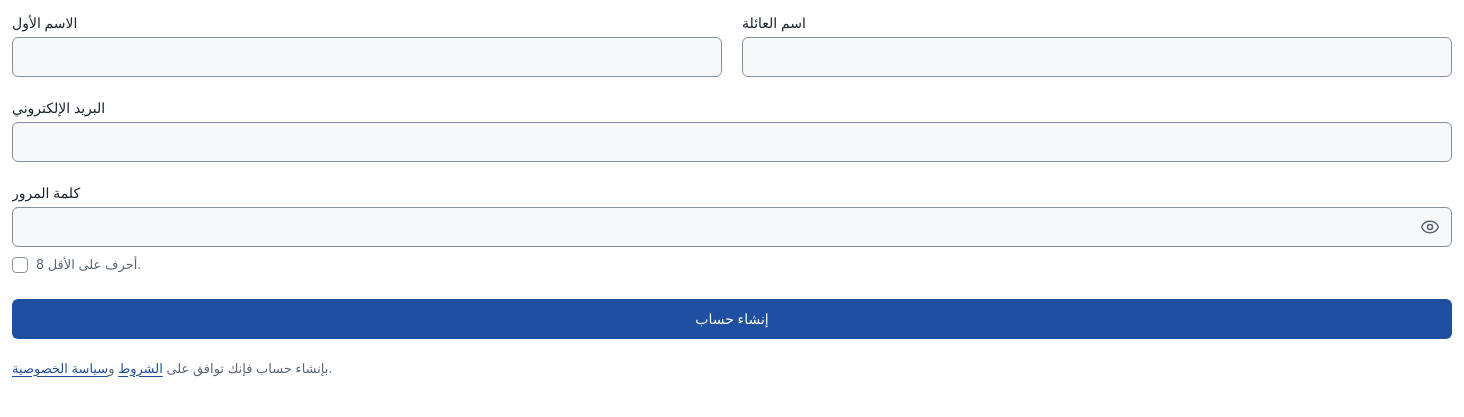
Test: signup form › asks for at least 8 characters, in the page language
Type "أمل" into the field labelled "الاسم الأول" at (367, 57), box [12,37,722,77]
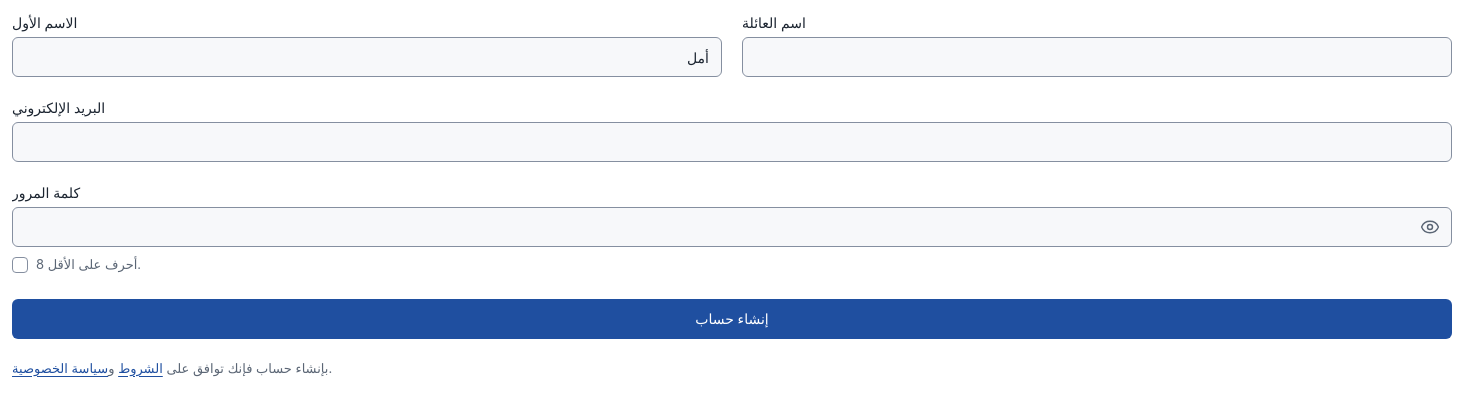
Type "بن صالح" into the field labelled "اسم العائلة" at (1097, 57), box [742,37,1452,77]
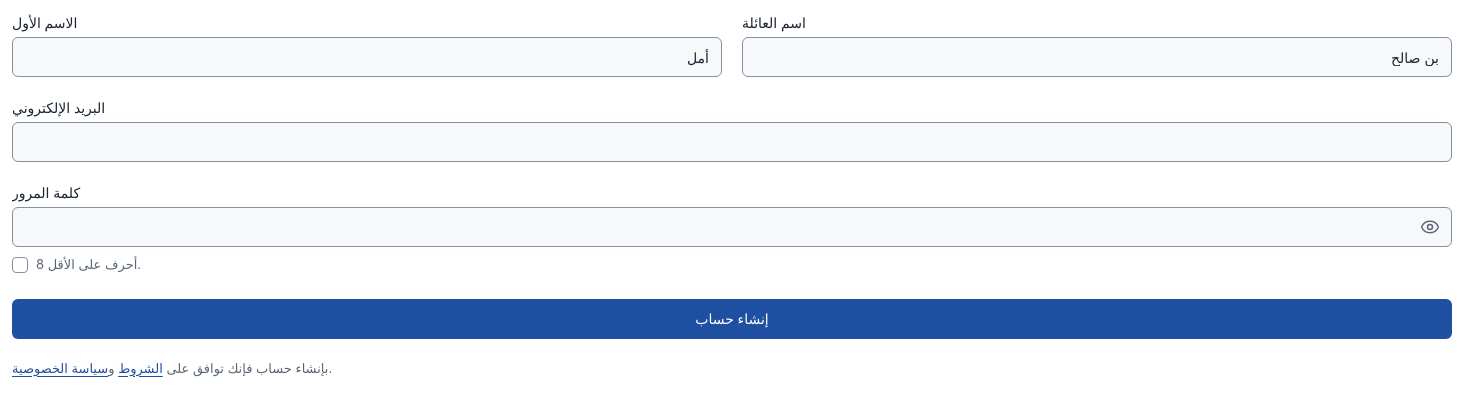
Type "a@b.co" into the field labelled "البريد الإلكتروني" at (732, 142), box [12,122,1452,162]
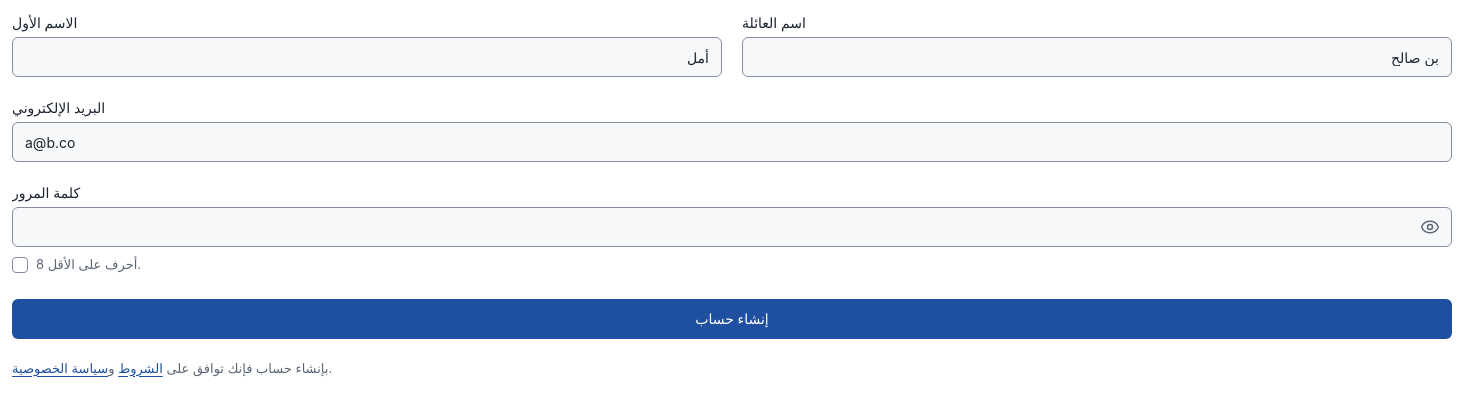
Type "1234" into the password field labelled "كلمة المرور" at (732, 227), box [12,207,1452,247]
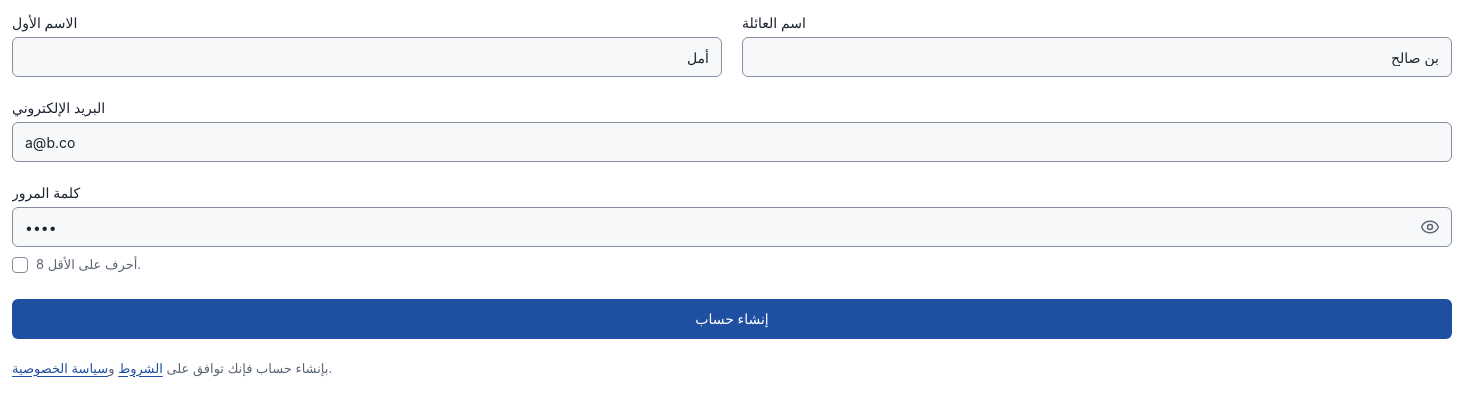
Click the button "إنشاء حساب" at (732, 318), box [12,298,1452,338]
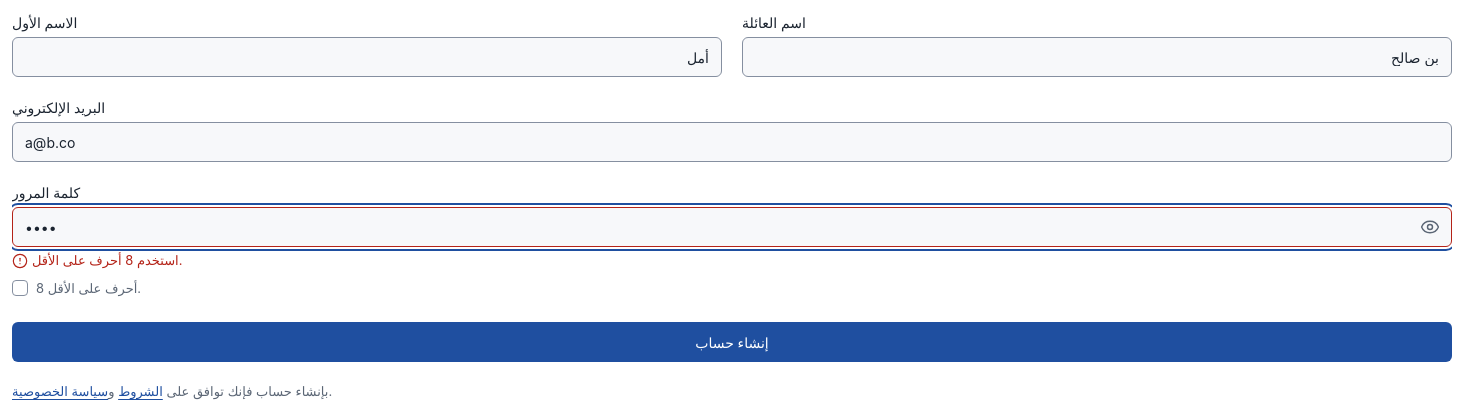
Expected: the text "استخدم 8 أحرف على الأقل." is shown, [12,252,182,269]
